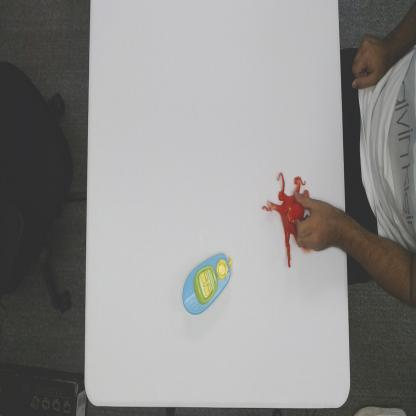Boat: (182, 250, 233, 316)
Hand: (292, 188, 345, 254)
Octopus: (262, 171, 310, 269)
